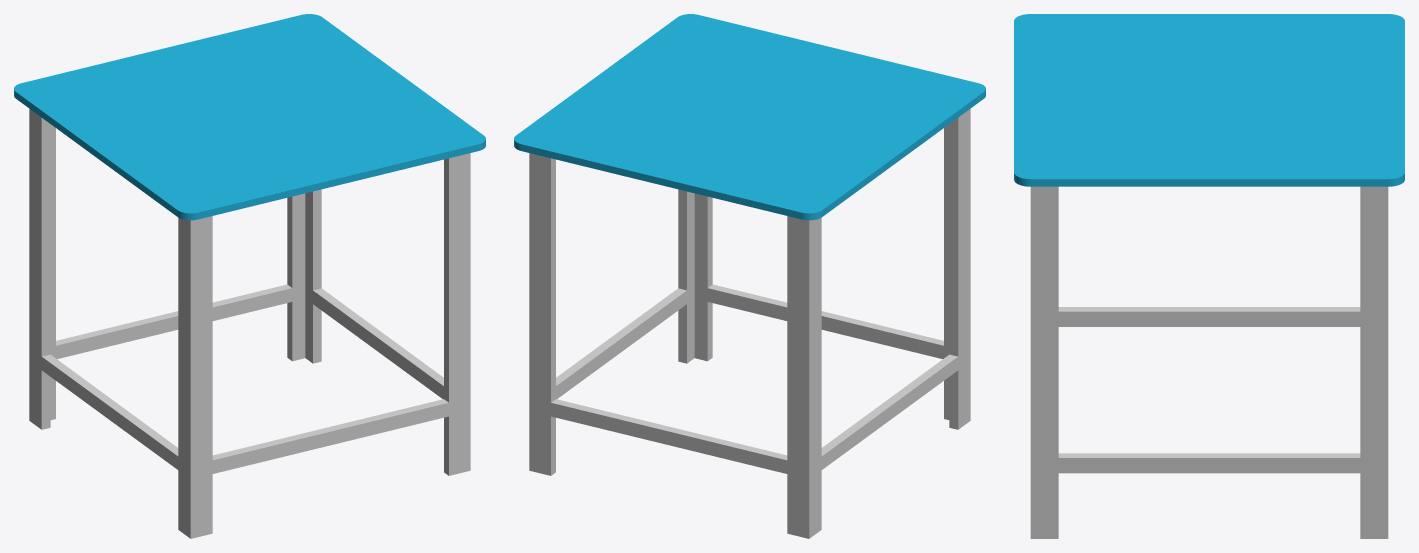
Rendered from RegularTable70.dae.
3 renders of one model, left to right at view 1: azimuth 30°, elevation 25°; view 2: azimuth 150°, elevation 25°; view 3: azimuth 270°, elevation 25°, orthographic. The views are drawn at different scales.
Visible parts, largest first — view 1: node0; view 2: node0; view 3: node0.
Part boxes in pixels (x1,y1,x2,y2): node0: (14,14,485,538); node0: (514,14,985,538); node0: (1014,14,1404,538).
Bounding box in the file's own units: 700 × 700 × 725.
